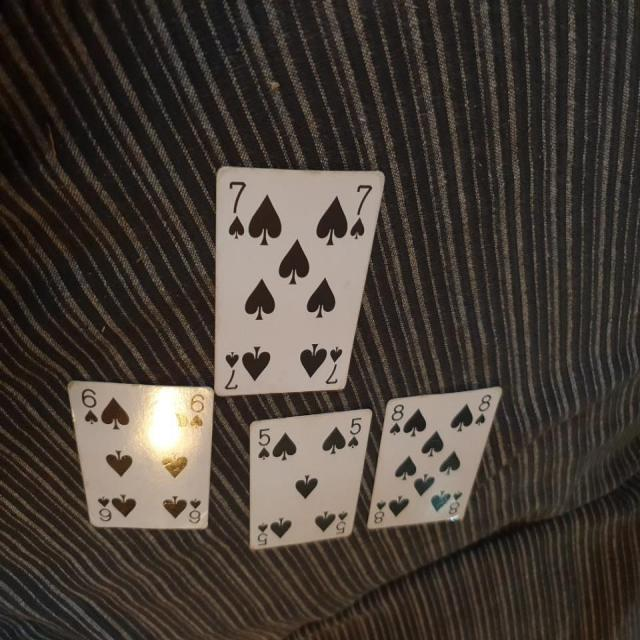5 Spades: (233, 406, 378, 558)
6 Spades: (63, 364, 221, 538)
7 Spades: (200, 154, 390, 402)
8 Spades: (363, 393, 503, 545)
